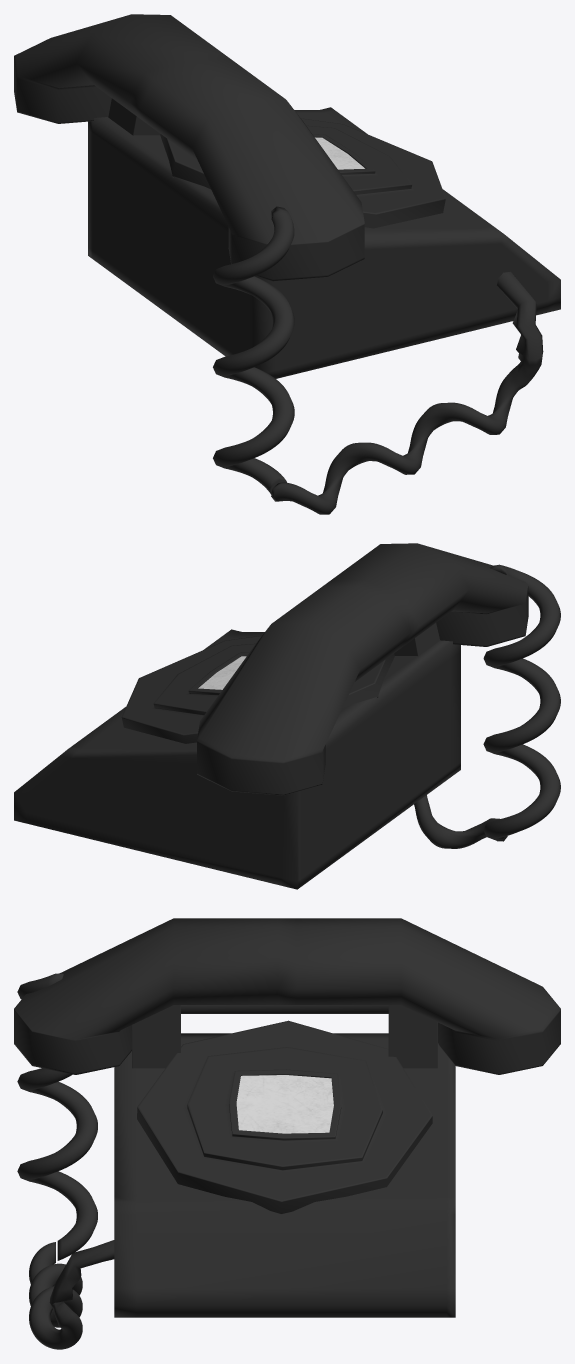
The model's file is phone.glb.
3 renders of one model, top to bottom at view 1: azimuth 30°, elevation 25°; view 2: azimuth 150°, elevation 25°; view 3: azimuth 270°, elevation 25°, orthographic. The views are drawn at different scales.
Parts seen in each view (by area): view 1: basePhone1; view 2: basePhone1; view 3: basePhone1.
Boxes of the visible parts, <box> form: basePhone1: <box>14,14,560,514</box>; basePhone1: <box>14,543,560,889</box>; basePhone1: <box>14,918,560,1349</box>.
Bounding box in the file's own units: 0.1568 × 0.1503 × 0.2029.
1 material, 1 textured.
